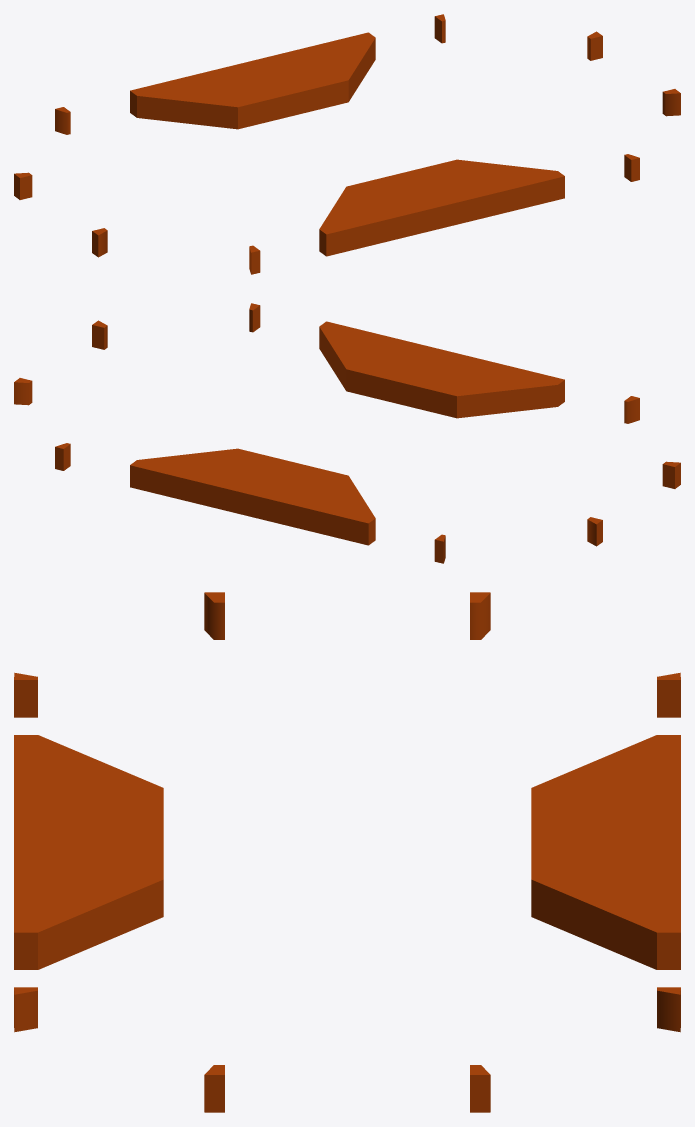
File: mesh_Spaceship_CTF_Coll.fbx
The picture shows the model from 3 angles, top to bottom: view 1: azimuth 30°, elevation 25°; view 2: azimuth 150°, elevation 25°; view 3: azimuth 270°, elevation 25°; orthographic projection. The views are drawn at different scales.
Visible parts, largest first — view 1: mesh_spaceship_Coll.008, mesh_spaceship_Coll.009, mesh_spaceship_Coll.001, mesh_spaceship_Coll.005, mesh_spaceship_Coll.003, mesh_spaceship_Coll.007, mesh_spaceship_Coll, mesh_spaceship_Coll.004; view 2: mesh_spaceship_Coll.008, mesh_spaceship_Coll.009, mesh_spaceship_Coll.003, mesh_spaceship_Coll.007, mesh_spaceship_Coll.001, mesh_spaceship_Coll.005, mesh_spaceship_Coll.002, mesh_spaceship_Coll.006; view 3: mesh_spaceship_Coll.008, mesh_spaceship_Coll.009, mesh_spaceship_Coll, mesh_spaceship_Coll.002, mesh_spaceship_Coll.004, mesh_spaceship_Coll.006, mesh_spaceship_Coll.001, mesh_spaceship_Coll.003, mesh_spaceship_Coll.005, mesh_spaceship_Coll.007.
Boxes of the visible parts, x1,y1,x2,y2 form: mesh_spaceship_Coll.008: [130, 32, 375, 129]; mesh_spaceship_Coll.009: [319, 159, 564, 256]; mesh_spaceship_Coll.001: [14, 172, 32, 199]; mesh_spaceship_Coll.005: [662, 89, 680, 116]; mesh_spaceship_Coll.003: [587, 31, 602, 60]; mesh_spaceship_Coll.007: [92, 228, 107, 257]; mesh_spaceship_Coll: [55, 107, 70, 134]; mesh_spaceship_Coll.004: [624, 154, 639, 181]; mesh_spaceship_Coll.008: [130, 448, 375, 545]; mesh_spaceship_Coll.009: [319, 321, 564, 418]; mesh_spaceship_Coll.003: [14, 378, 32, 405]; mesh_spaceship_Coll.007: [662, 461, 680, 488]; mesh_spaceship_Coll.001: [587, 517, 602, 546]; mesh_spaceship_Coll.005: [92, 320, 107, 349]; mesh_spaceship_Coll.002: [55, 443, 70, 470]; mesh_spaceship_Coll.006: [624, 396, 639, 423]; mesh_spaceship_Coll.008: [531, 735, 680, 969]; mesh_spaceship_Coll.009: [14, 735, 163, 969]; mesh_spaceship_Coll: [657, 672, 680, 717]; mesh_spaceship_Coll.002: [657, 987, 680, 1032]; mesh_spaceship_Coll.004: [14, 987, 37, 1032]; mesh_spaceship_Coll.006: [14, 672, 37, 717]; mesh_spaceship_Coll.001: [470, 592, 490, 639]; mesh_spaceship_Coll.003: [470, 1065, 490, 1112]; mesh_spaceship_Coll.005: [204, 1065, 224, 1112]; mesh_spaceship_Coll.007: [204, 592, 224, 639].
Bounding box in the file's own units: 59.97 × 2.17 × 35.02.
